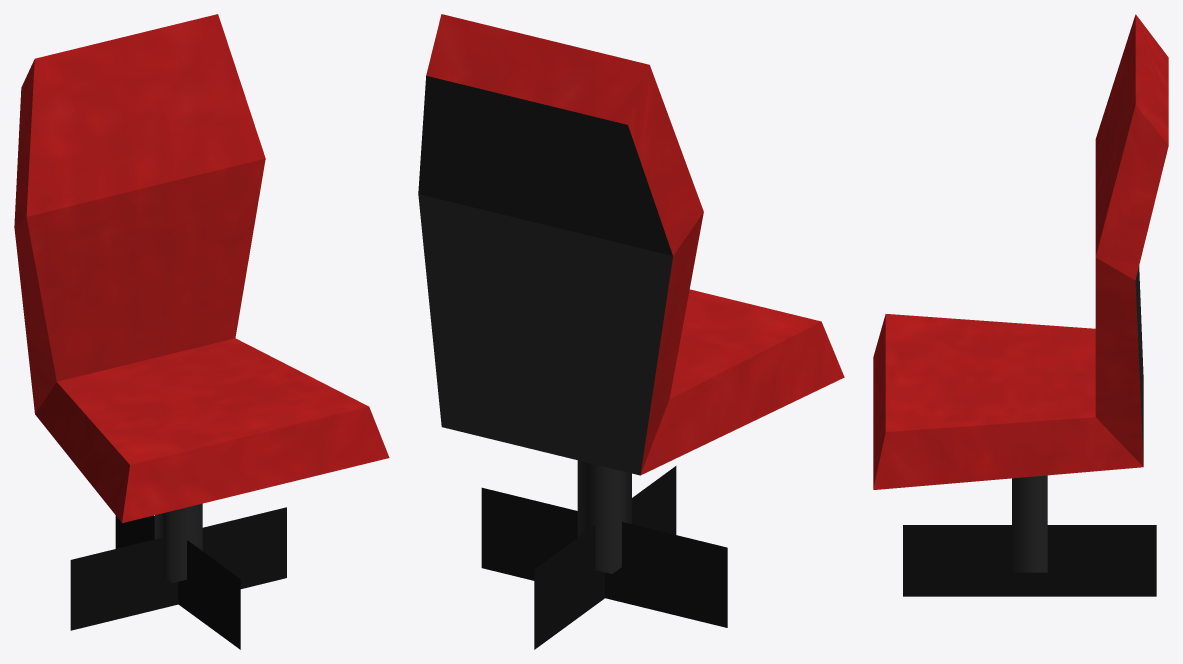
The model's file is OfficeChair.fbx.
3 views of the same model, side by side, from view 1: azimuth 30°, elevation 25°; view 2: azimuth 150°, elevation 25°; view 3: azimuth 270°, elevation 25° (orthographic). The views are drawn at different scales.
Visible parts, largest first — view 1: Maya_File_Assets:TexturedAssetsCurrent:EliesAsstsTextures:Ti; view 2: Maya_File_Assets:TexturedAssetsCurrent:EliesAsstsTextures:Ti; view 3: Maya_File_Assets:TexturedAssetsCurrent:EliesAsstsTextures:Ti.
Part boxes in pixels (x1=…): Maya_File_Assets:TexturedAssetsCurrent:EliesAsstsTextures:Ti: x1=14, y1=14, x2=389, y2=649; Maya_File_Assets:TexturedAssetsCurrent:EliesAsstsTextures:Ti: x1=418, y1=14, x2=844, y2=649; Maya_File_Assets:TexturedAssetsCurrent:EliesAsstsTextures:Ti: x1=873, y1=14, x2=1168, y2=596.
Bounding box in the file's own units: 0.7452 × 1.41 × 0.7031.
